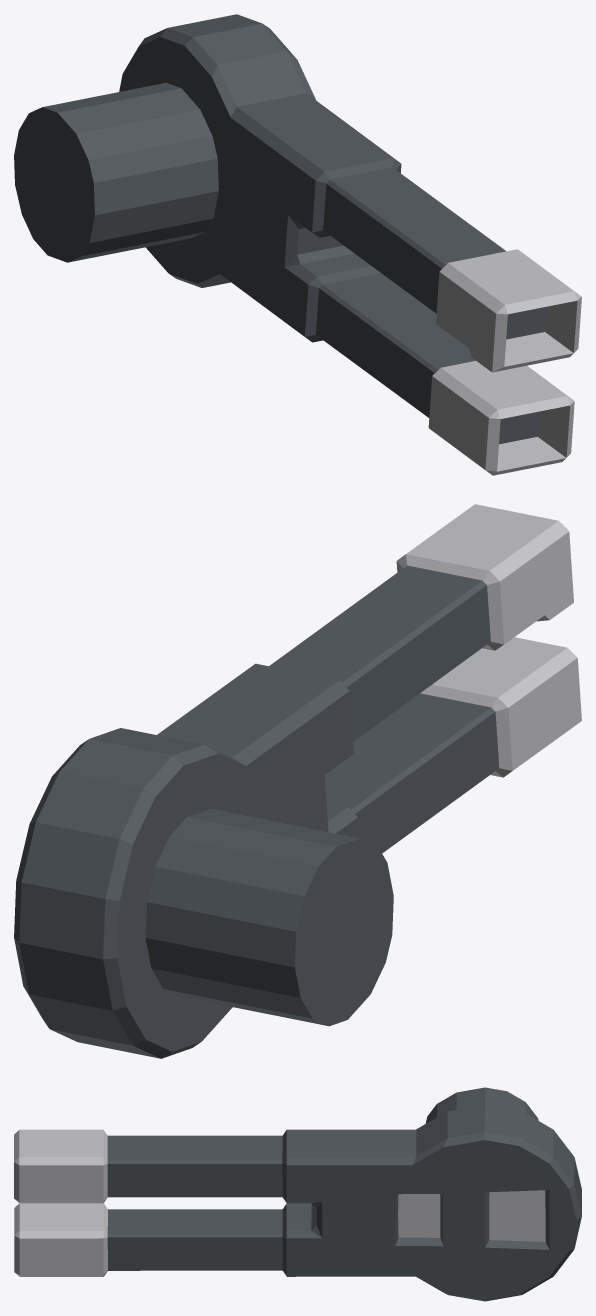
The model's file is Dropship_04_Artillery.fbx.
3 renders of one model, top to bottom at view 1: azimuth 30°, elevation 25°; view 2: azimuth 150°, elevation 25°; view 3: azimuth 270°, elevation 25°, orthographic. The views are drawn at different scales.
Parts seen in each view (by area): view 1: Dropship_04_Artillery; view 2: Dropship_04_Artillery; view 3: Dropship_04_Artillery.
Part boxes in pixels (<box>): Dropship_04_Artillery: <box>14,14,581,475</box>; Dropship_04_Artillery: <box>14,504,581,1058</box>; Dropship_04_Artillery: <box>14,1087,581,1301</box>.
Size of the model in its own units: 69.09 by 71.62 by 207.
1 material, 1 textured.
